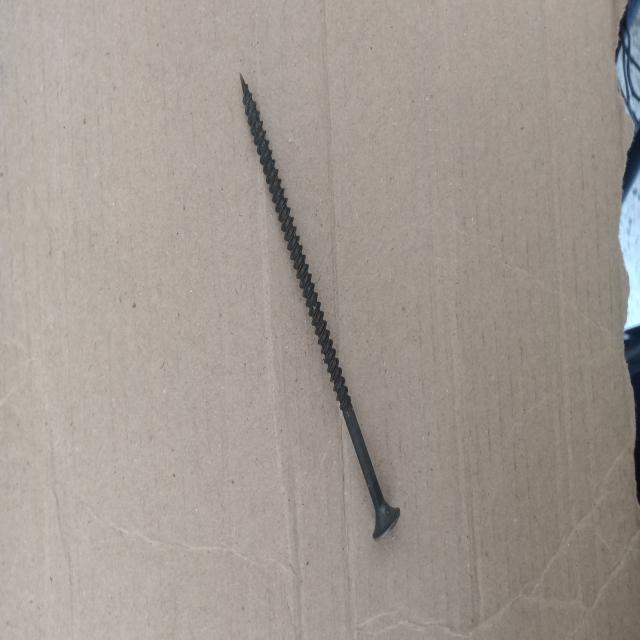screw: (239, 71, 401, 541)
